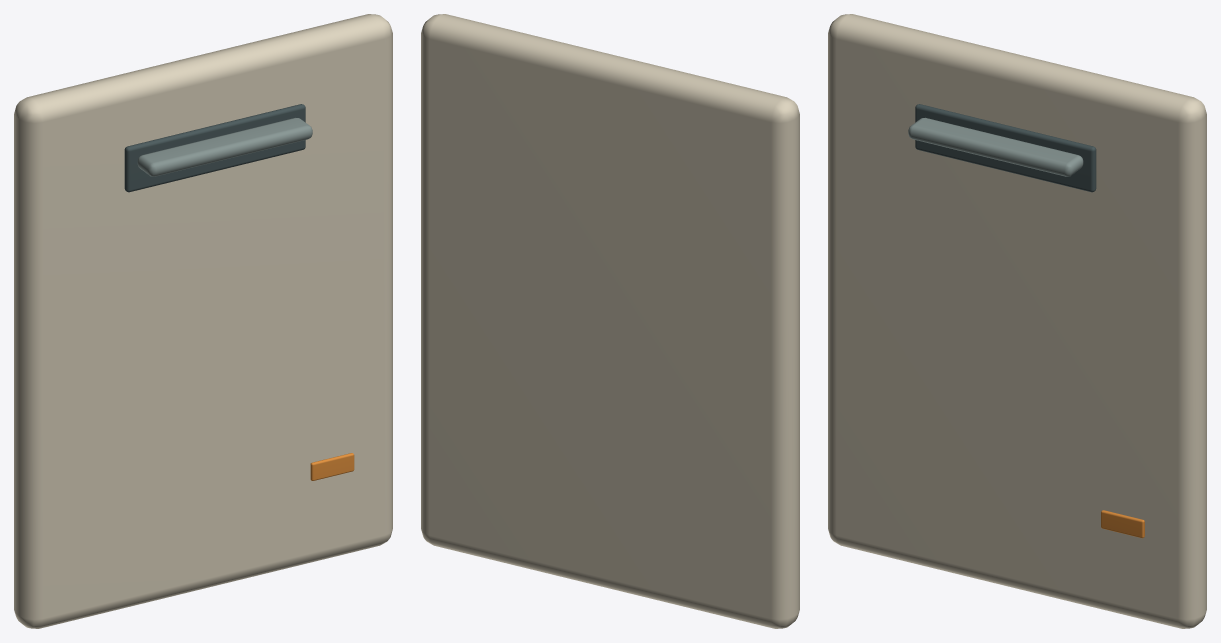
Rendered from cabinet-door-050.glb.
3 renders of one model, left to right at view 1: azimuth 30°, elevation 25°; view 2: azimuth 150°, elevation 25°; view 3: azimuth 330°, elevation 25°, orthographic.
Parts seen in each view (by area): view 1: cabinet-door-050 / 01 • warm porcelain paint, cabinet-door-050 / 06 • dark anodized frame, cabinet-door-050 / 05 • brushed titanium, cabinet-door-050 / 03 • ochre enamel; view 2: cabinet-door-050 / 01 • warm porcelain paint; view 3: cabinet-door-050 / 01 • warm porcelain paint, cabinet-door-050 / 06 • dark anodized frame, cabinet-door-050 / 05 • brushed titanium, cabinet-door-050 / 03 • ochre enamel.
Boxes of the visible parts, x1,y1,x2,y2 form: cabinet-door-050 / 01 • warm porcelain paint: [14, 14, 392, 628]; cabinet-door-050 / 06 • dark anodized frame: [124, 104, 305, 192]; cabinet-door-050 / 05 • brushed titanium: [137, 117, 312, 176]; cabinet-door-050 / 03 • ochre enamel: [310, 453, 354, 480]; cabinet-door-050 / 01 • warm porcelain paint: [421, 14, 799, 628]; cabinet-door-050 / 01 • warm porcelain paint: [828, 14, 1206, 628]; cabinet-door-050 / 06 • dark anodized frame: [915, 104, 1096, 192]; cabinet-door-050 / 05 • brushed titanium: [908, 117, 1083, 176]; cabinet-door-050 / 03 • ochre enamel: [1101, 510, 1144, 538].
Size of the model in its own units: 0.475 by 0.645 by 0.088.
